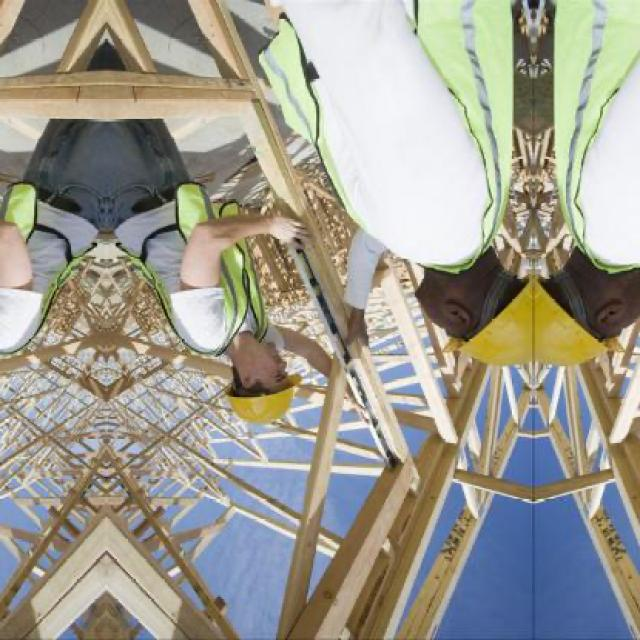con casco: (180, 316, 344, 449), (387, 247, 541, 376)
